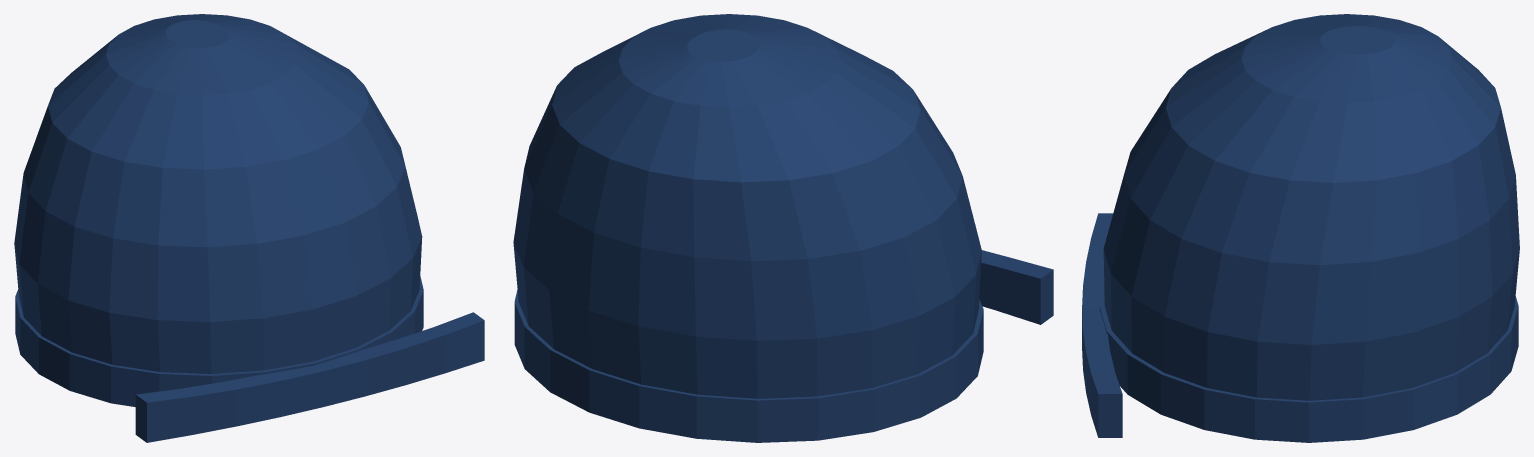
File: hair_boy_bowl_cut_01.glb
3 views of the same model, side by side, from view 1: azimuth 30°, elevation 25°; view 2: azimuth 150°, elevation 25°; view 3: azimuth 270°, elevation 25° (orthographic). The views are drawn at different scales.
Parts seen in each view (by area): view 1: Bowl_Cap, Bowl_Straight_Fringe, Bowl_Level_Rim; view 2: Bowl_Cap, Bowl_Level_Rim, Bowl_Straight_Fringe; view 3: Bowl_Cap, Bowl_Level_Rim, Bowl_Straight_Fringe.
Part boxes in pixels (bbox=[...]): Bowl_Cap: bbox=[14, 14, 422, 373]; Bowl_Straight_Fringe: bbox=[135, 312, 484, 442]; Bowl_Level_Rim: bbox=[15, 276, 423, 406]; Bowl_Cap: bbox=[513, 14, 981, 398]; Bowl_Level_Rim: bbox=[514, 289, 983, 442]; Bowl_Straight_Fringe: bbox=[979, 250, 1053, 324]; Bowl_Cap: bbox=[1103, 14, 1519, 400]; Bowl_Level_Rim: bbox=[1099, 290, 1518, 442]; Bowl_Straight_Fringe: bbox=[1082, 213, 1122, 437].
Size of the model in its own units: 0.338 by 0.251 by 0.324.
